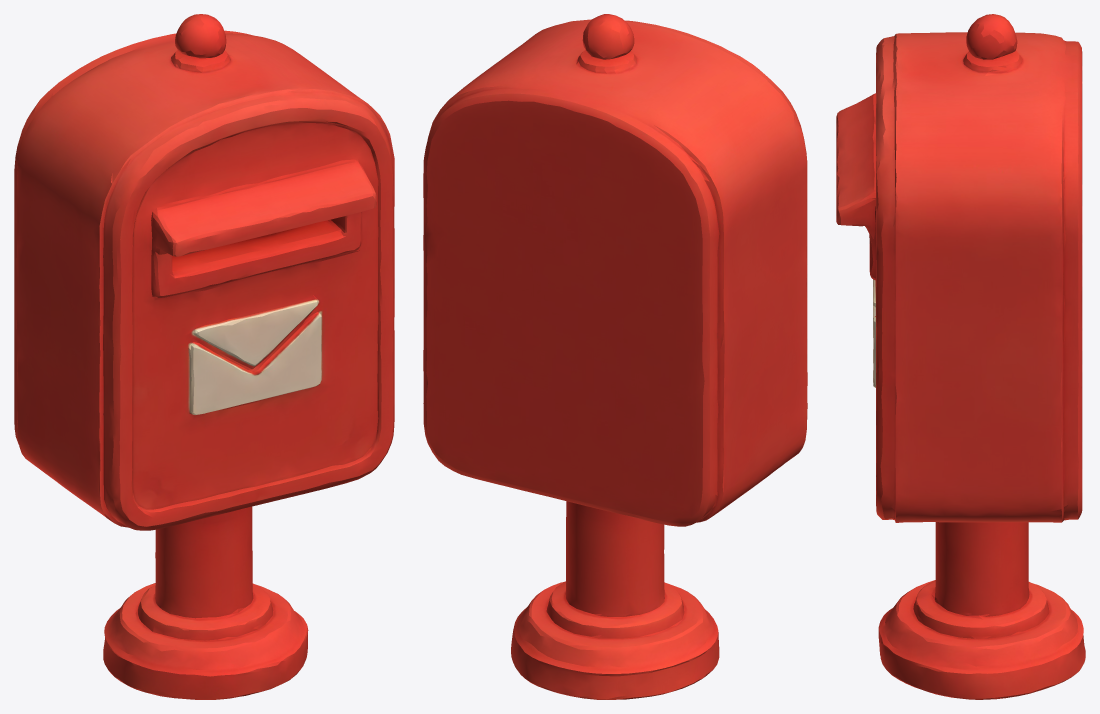
3 renders of one model, left to right at view 1: azimuth 30°, elevation 25°; view 2: azimuth 150°, elevation 25°; view 3: azimuth 270°, elevation 25°, orthographic.
Visible parts, largest first — view 1: Mesh; view 2: Mesh; view 3: Mesh.
Boxes of the visible parts, <box> form: Mesh: <box>14,14,394,699</box>; Mesh: <box>423,14,807,699</box>; Mesh: <box>836,14,1085,699</box>.
Size of the model in its own units: 0.9216 by 1.9 by 0.6688.
1 material, 1 textured.
